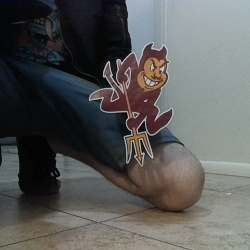sparky: (88, 41, 173, 168)
